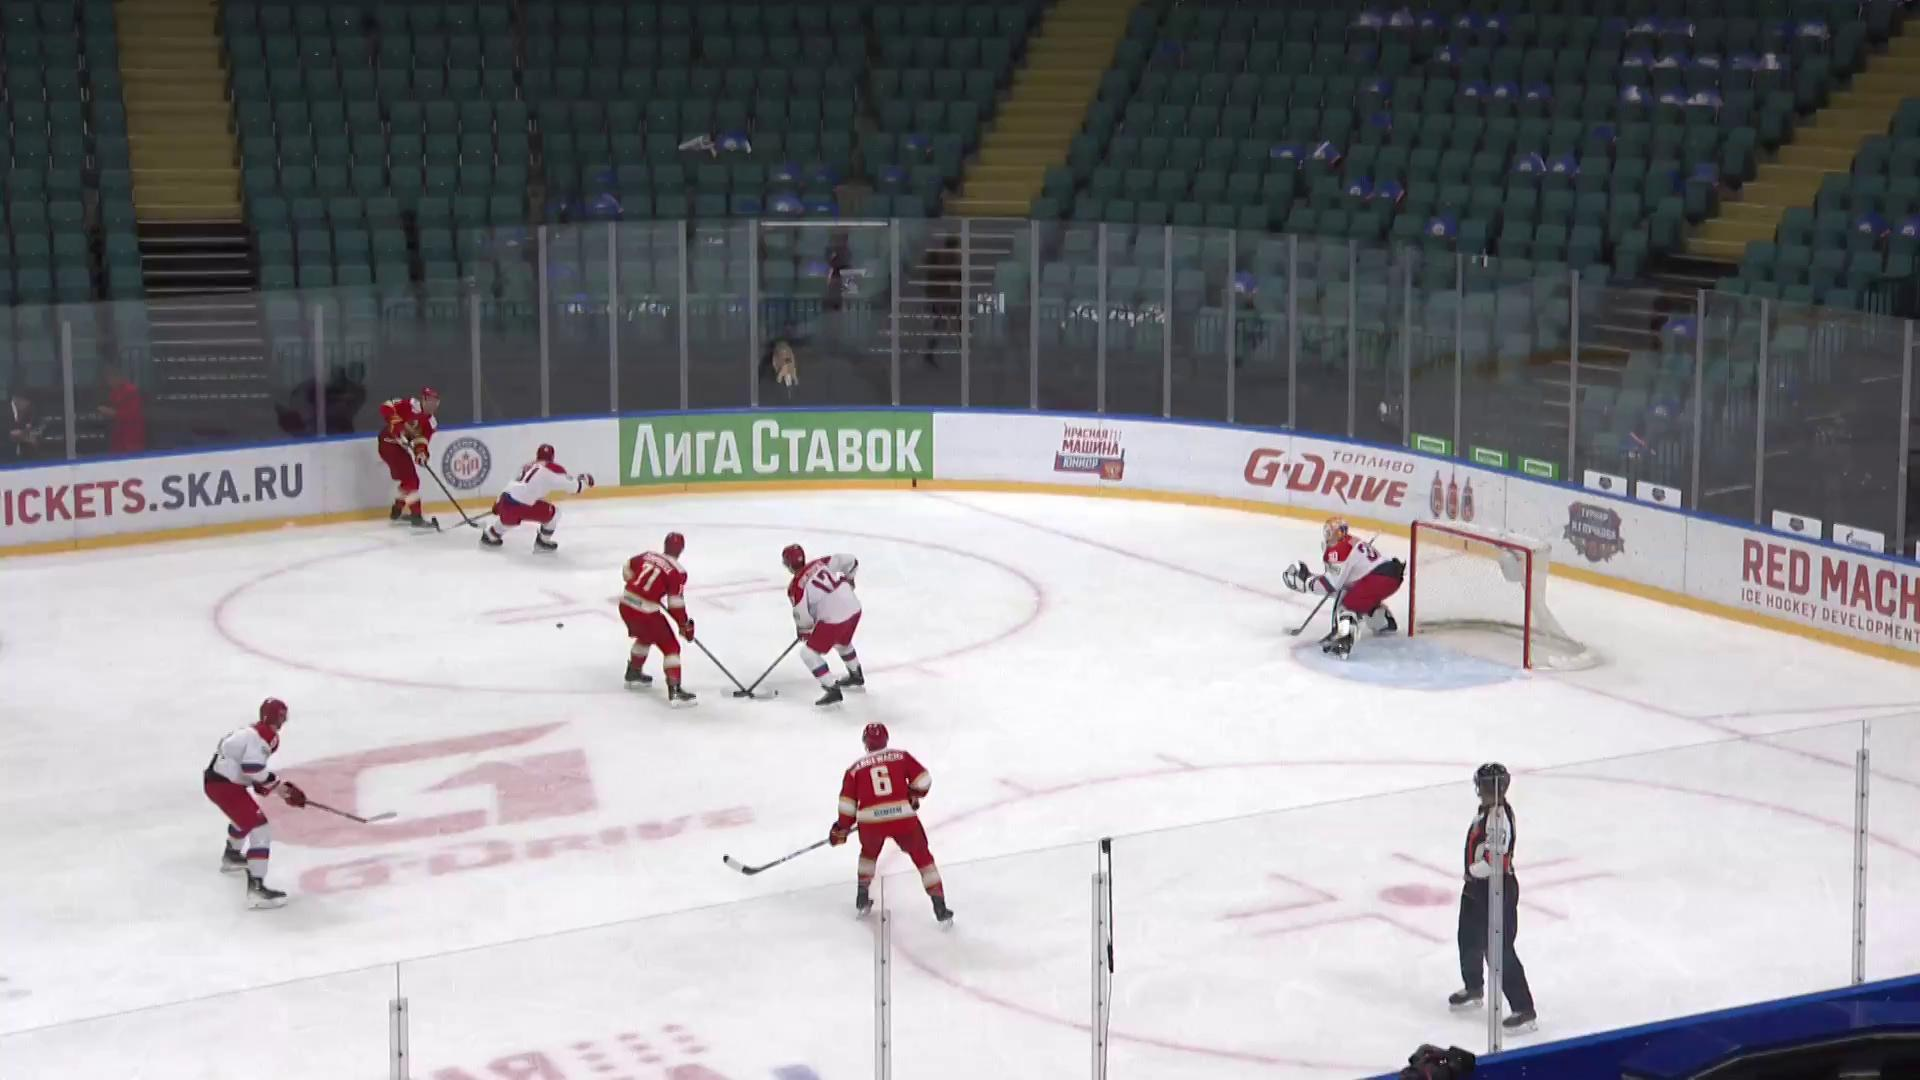ball: (553, 621, 568, 630)
